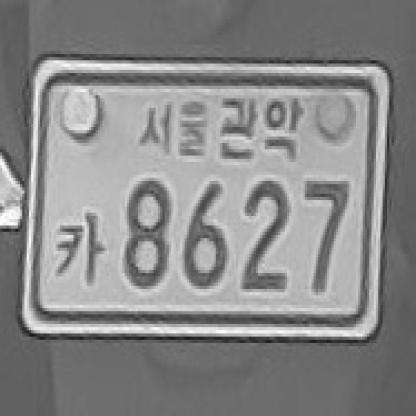bnum: (20, 49, 398, 349)
